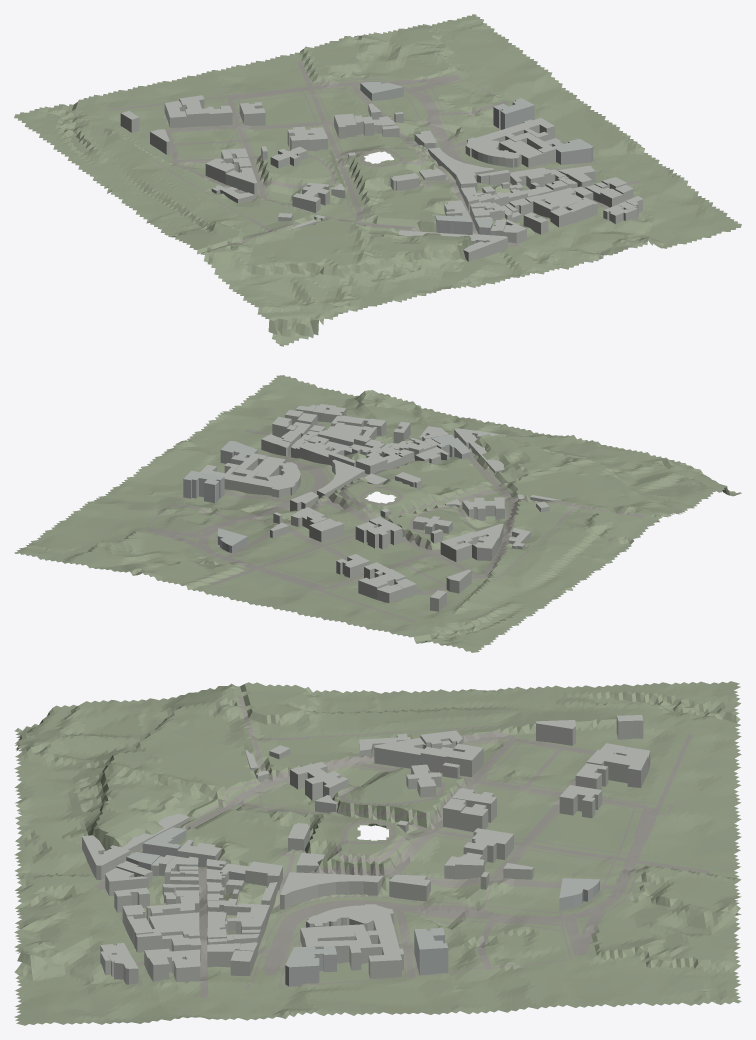
The picture shows the model from 3 angles, top to bottom: view 1: azimuth 30°, elevation 25°; view 2: azimuth 150°, elevation 25°; view 3: azimuth 270°, elevation 25°; orthographic projection. The views are drawn at different scales.
Visible parts, largest first — view 1: villa-maraini-context-lazio-terrain, villa-maraini-context-osm-roads, villa-maraini-context-osm-334699412, villa-maraini-context-osm-365885041, villa-maraini-context-osm-337481358, villa-maraini-context-osm-103765185, villa-maraini-context-osm-337697759, villa-maraini-context-osm-337591240, villa-maraini-context-osm-338038228, villa-maraini-context-osm-337487535, villa-maraini-context-osm-203946249, villa-maraini-context-osm-337632513 (+4 smaller); view 2: villa-maraini-context-lazio-terrain, villa-maraini-context-osm-roads, villa-maraini-context-osm-334699412, villa-maraini-context-osm-337481358, villa-maraini-context-osm-337697759, villa-maraini-context-osm-337591240, villa-maraini-context-osm-365885041, villa-maraini-context-osm-337879139, villa-maraini-context-osm-338038228, villa-maraini-context-osm-337696746, villa-maraini-context-osm-103765185, villa-maraini-context-osm-337484132 (+7 smaller); view 3: villa-maraini-context-lazio-terrain, villa-maraini-context-osm-roads, villa-maraini-context-osm-334699412, villa-maraini-context-osm-337591240, villa-maraini-context-osm-365885041, villa-maraini-context-osm-103765185, villa-maraini-context-osm-337697759, villa-maraini-context-osm-337481358, villa-maraini-context-osm-338038228, villa-maraini-context-osm-337871343, villa-maraini-context-osm-337881024, villa-maraini-context-osm-337632513 (+23 smaller).
Boxes of the visible parts, left/top/right/bottom form: villa-maraini-context-lazio-terrain: left=14, top=14, right=741, bottom=346; villa-maraini-context-osm-roads: left=109, top=61, right=640, bottom=249; villa-maraini-context-osm-334699412: left=465, top=118, right=554, bottom=167; villa-maraini-context-osm-365885041: left=398, top=230, right=507, bottom=261; villa-maraini-context-osm-337481358: left=493, top=98, right=534, bottom=129; villa-maraini-context-osm-103765185: left=544, top=138, right=593, bottom=164; villa-maraini-context-osm-337697759: left=292, top=182, right=329, bottom=212; villa-maraini-context-osm-337591240: left=428, top=147, right=494, bottom=179; villa-maraini-context-osm-338038228: left=179, top=95, right=209, bottom=126; villa-maraini-context-osm-337487535: left=435, top=211, right=472, bottom=234; villa-maraini-context-osm-203946249: left=499, top=139, right=543, bottom=167; villa-maraini-context-osm-337632513: left=360, top=82, right=403, bottom=101; villa-maraini-context-lazio-terrain: left=14, top=375, right=741, bottom=652; villa-maraini-context-osm-roads: left=145, top=424, right=644, bottom=622; villa-maraini-context-osm-334699412: left=200, top=462, right=300, bottom=497; villa-maraini-context-osm-337481358: left=183, top=470, right=224, bottom=502; villa-maraini-context-osm-337697759: left=462, top=497, right=504, bottom=520; villa-maraini-context-osm-337591240: left=317, top=459, right=364, bottom=498; villa-maraini-context-osm-365885041: left=454, top=428, right=506, bottom=473; villa-maraini-context-osm-337879139: left=367, top=522, right=402, bottom=549; villa-maraini-context-osm-338038228: left=358, top=569, right=405, bottom=599; villa-maraini-context-osm-337696746: left=309, top=518, right=343, bottom=542; villa-maraini-context-osm-103765185: left=220, top=441, right=257, bottom=464; villa-maraini-context-osm-337484132: left=326, top=422, right=363, bottom=446; villa-maraini-context-lazio-terrain: left=14, top=681, right=741, bottom=1025; villa-maraini-context-osm-roads: left=94, top=694, right=709, bottom=998; villa-maraini-context-osm-334699412: left=306, top=904, right=403, bottom=978; villa-maraini-context-osm-337591240: left=280, top=872, right=383, bottom=909; villa-maraini-context-osm-365885041: left=82, top=813, right=190, bottom=879; villa-maraini-context-osm-103765185: left=285, top=946, right=336, bottom=986; villa-maraini-context-osm-337697759: left=290, top=761, right=348, bottom=800; villa-maraini-context-osm-337481358: left=414, top=928, right=448, bottom=975; villa-maraini-context-osm-338038228: left=586, top=749, right=647, bottom=787; villa-maraini-context-osm-337871343: left=374, top=738, right=426, bottom=768; villa-maraini-context-osm-337881024: left=559, top=785, right=602, bottom=818; villa-maraini-context-osm-337632513: left=559, top=878, right=599, bottom=910.
Bounding box in the file's own units: 607 × 57.4 × 607.
